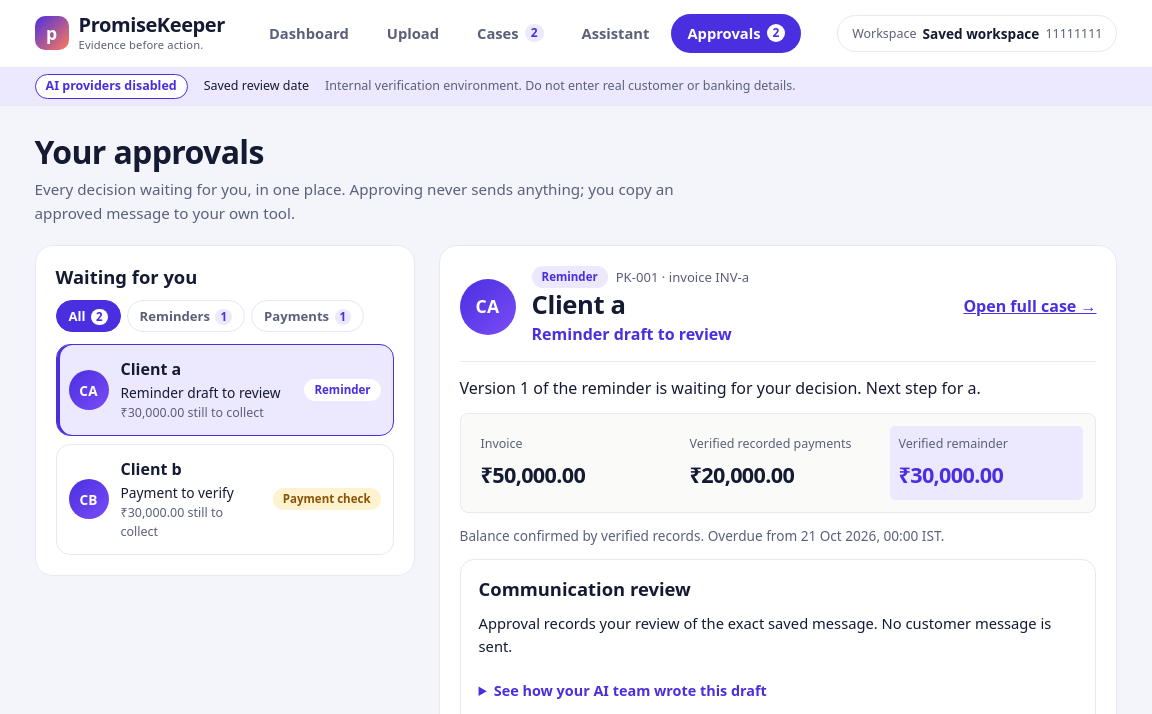
Test: ApprovalsPage › shows the same draft review for a reminder and recomputes the queue and badge after approval
The image size is (1152, 714).
Check: the heading "Your approvals" is shown, box [34,130,264,172]
Check: the 2nd text "2" is shown, box [766,24,785,42]
Click the link "Client a" at point(224, 390), box [56,344,394,436]
(page scrolled)
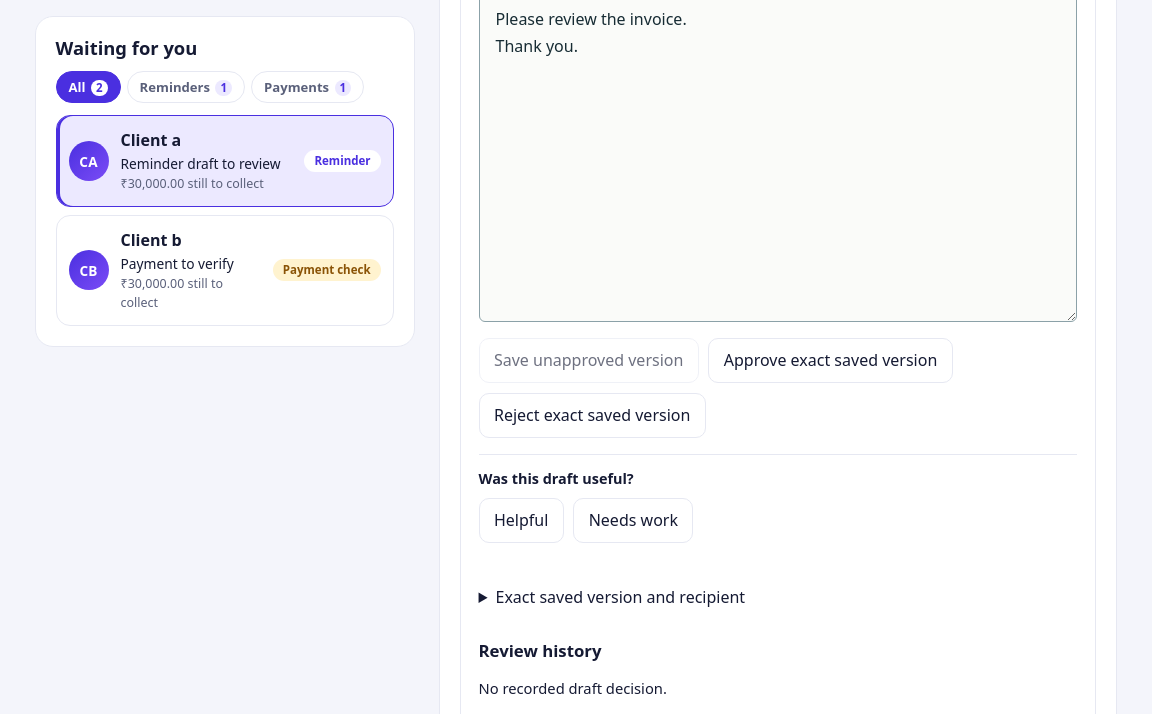
Click the button "Approve exact saved version" at point(831, 361), box [708,338,953,383]
(page scrolled)
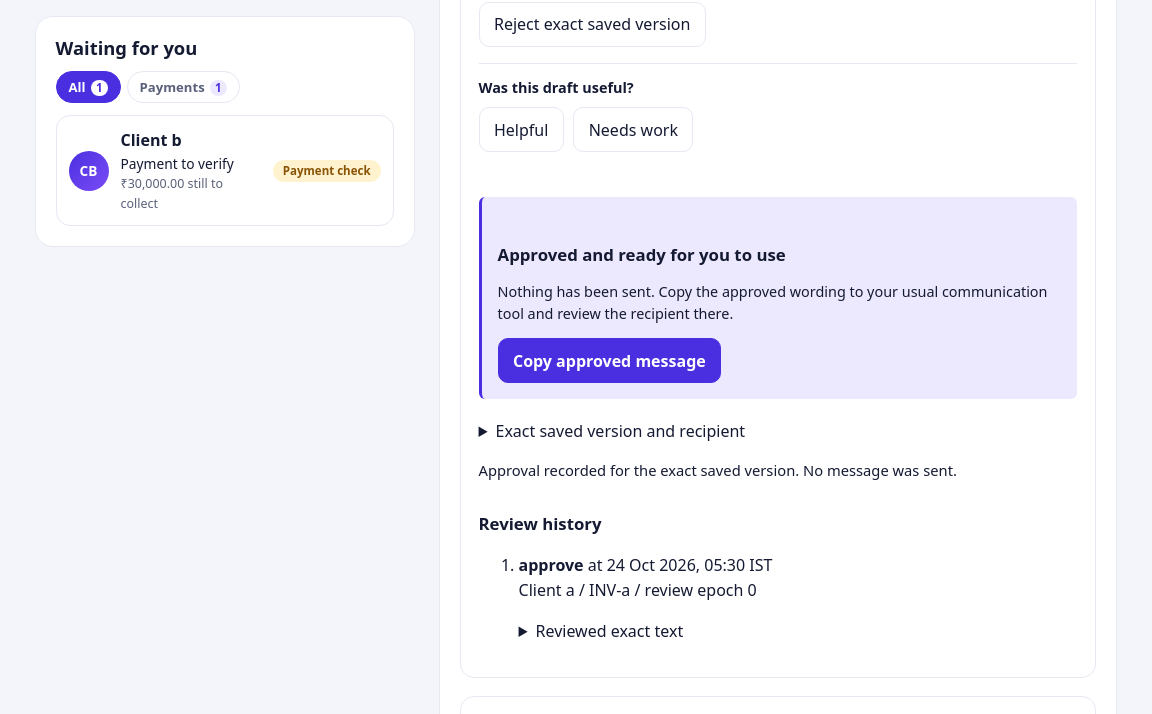
Check: the button "Copy approved message" is shown, box [498,338,721,383]
